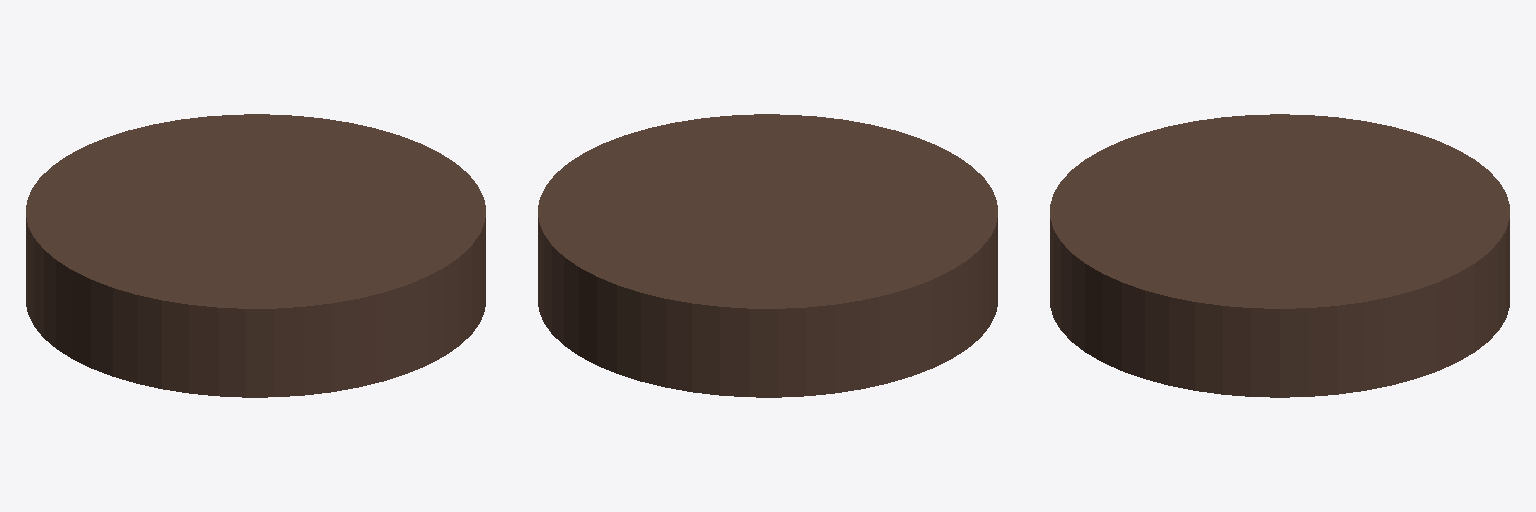
The model's file is Patty.obj.
3 views of the same model, side by side, from view 1: azimuth 30°, elevation 25°; view 2: azimuth 150°, elevation 25°; view 3: azimuth 270°, elevation 25° (orthographic).
Visible parts, largest first — view 1: Patty; view 2: Patty; view 3: Patty.
Part boxes in pixels (x1,y1,x2,y2): Patty: (26,114,485,397); Patty: (538,114,997,397); Patty: (1050,114,1509,397).
Size of the model in its own units: 4.7 by 1 by 4.69.